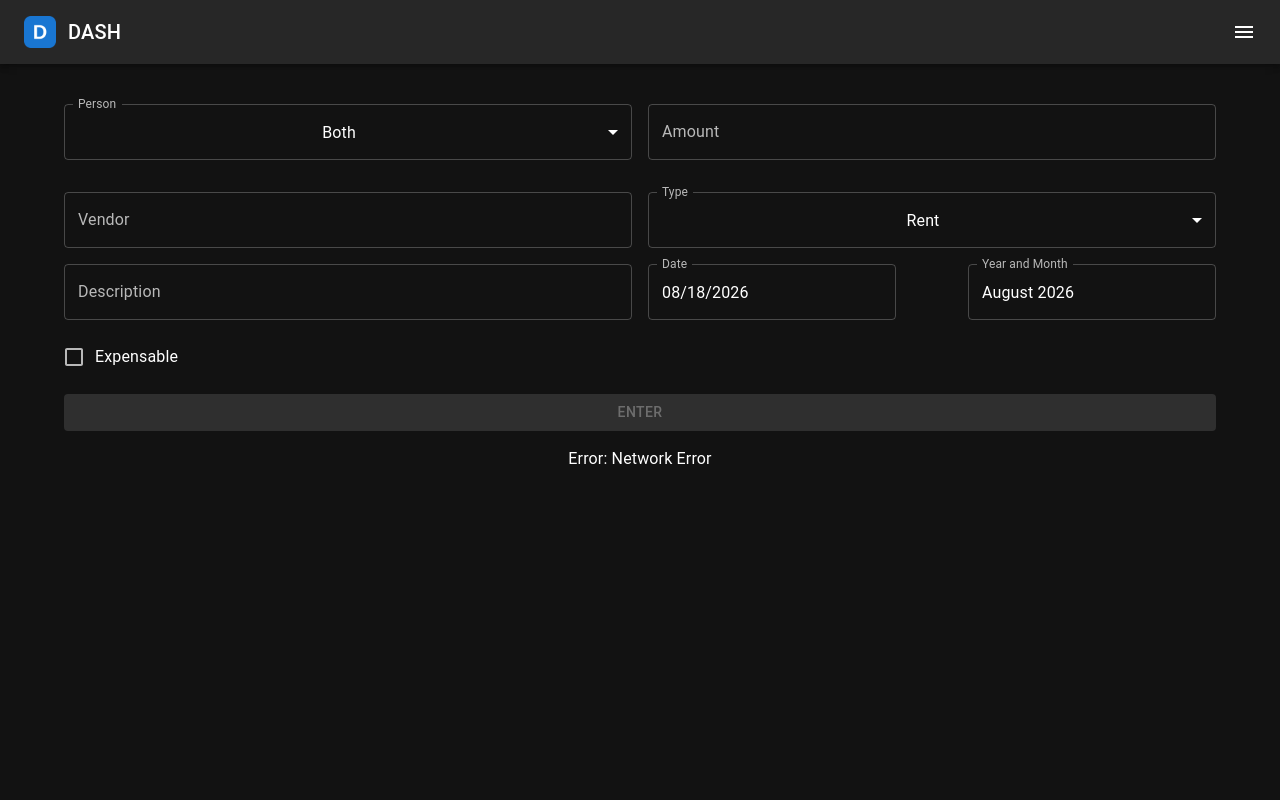
EnterExpensePage › should display an error message when the form submission fails -> amount is greater than 10000
Type "1000000" into the number field with id "amount-field".
click(932, 132); type("1000000")  # box [648,104,1216,160]
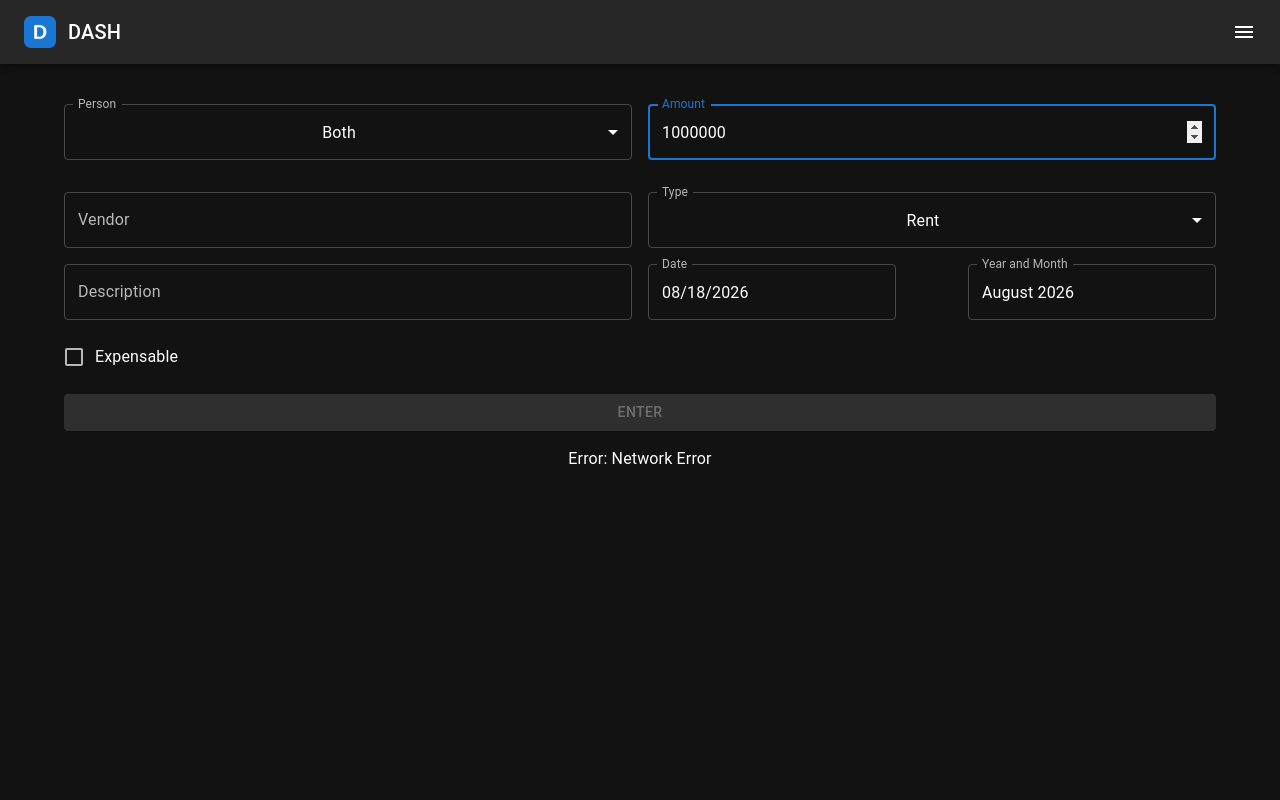
Type "Vendor Name" into the field labelled "Vendor".
click(348, 220); type("Vendor Name")  # box [64,192,632,248]
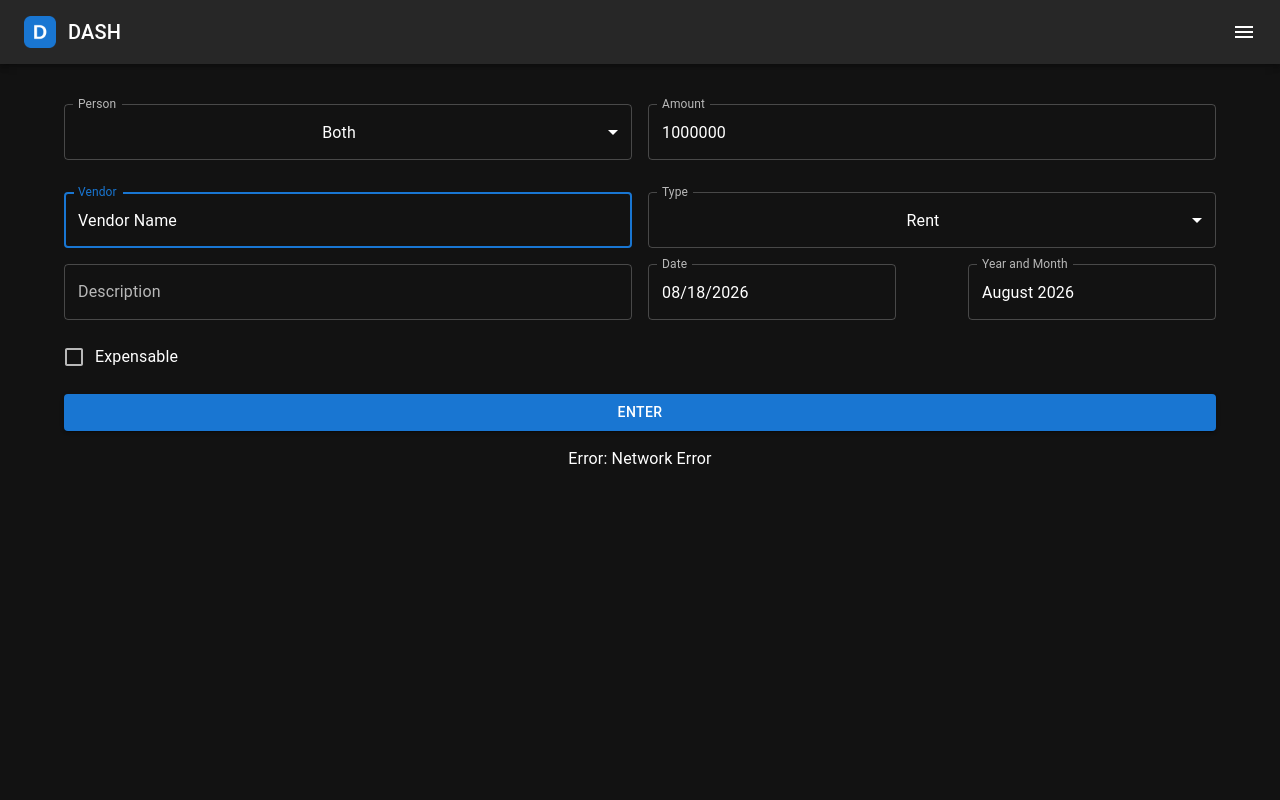
Type "Description" into the field with id "description-field".
click(348, 292); type("Description")  # box [64,264,632,320]
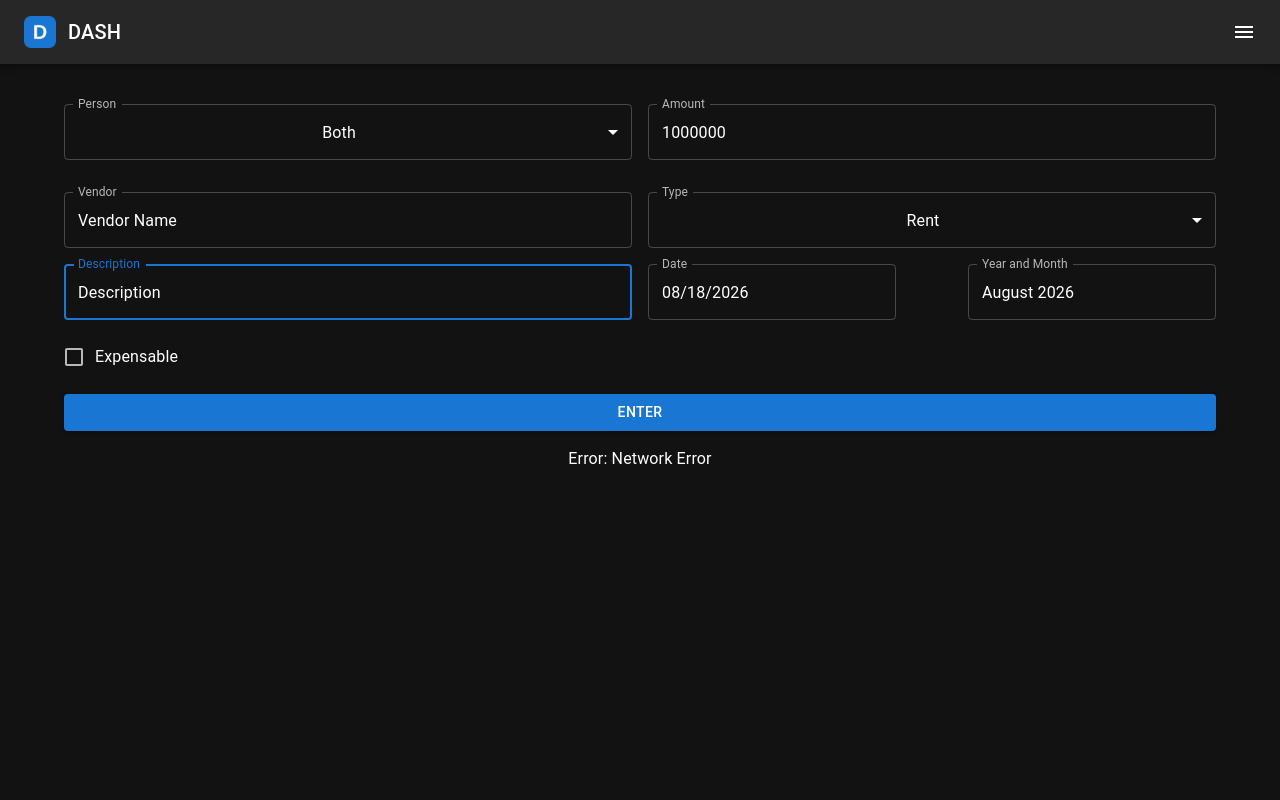
Click the button with id "submit-button".
click(640, 413)  # box [64,394,1216,431]
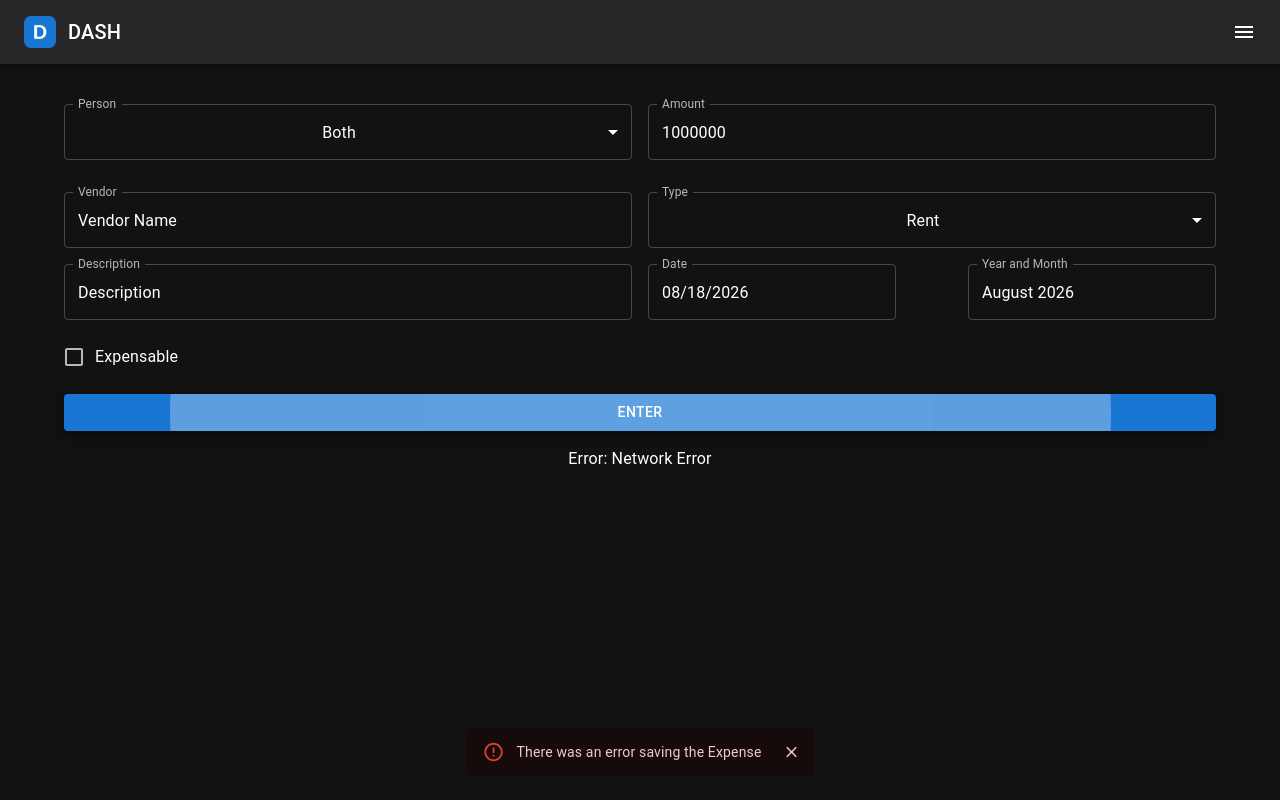
Check: the text with id "toast-message" reads "There was an error saving the Expense", box [517,744,762,760]
